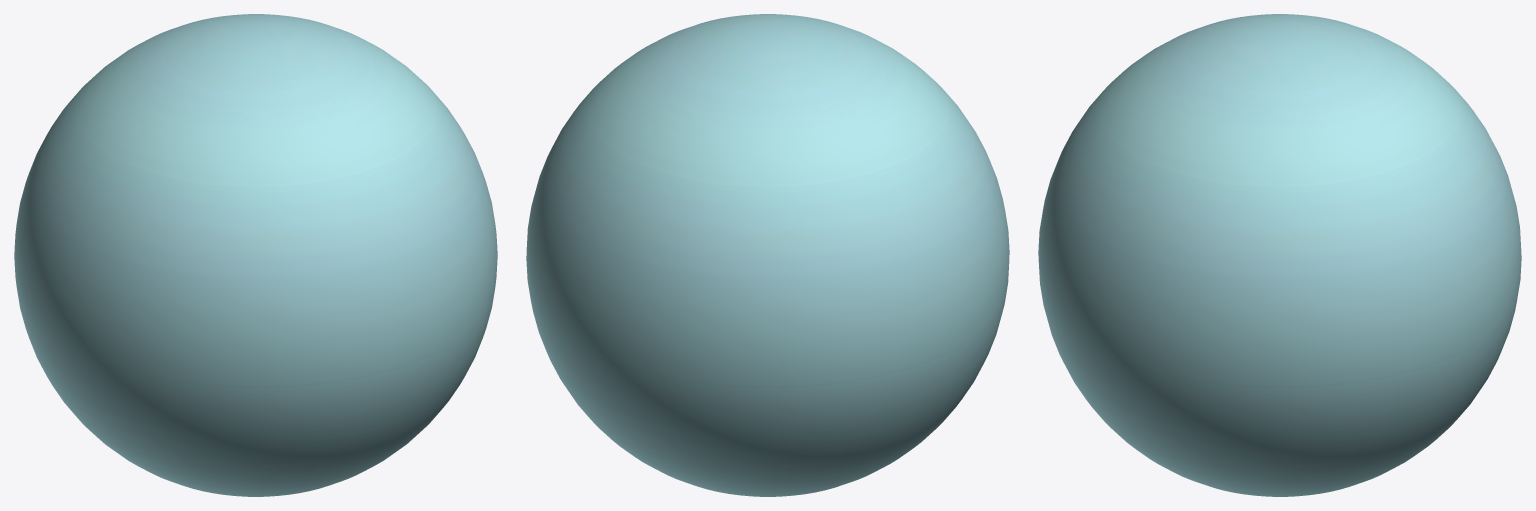
File: uranus.glb
The picture shows the model from 3 angles, left to right: view 1: azimuth 30°, elevation 25°; view 2: azimuth 150°, elevation 25°; view 3: azimuth 270°, elevation 25°; orthographic projection.
Parts seen in each view (by area): view 1: Sphere.001; view 2: Sphere.001; view 3: Sphere.001.
Boxes of the visible parts, x1=… form: Sphere.001: x1=14, y1=14, x2=497, y2=496; Sphere.001: x1=526, y1=14, x2=1009, y2=496; Sphere.001: x1=1038, y1=14, x2=1521, y2=496.
Bounding box in the file's own units: 2.02 × 2.02 × 2.02.
Materials: 1 (1 with a texture image).
